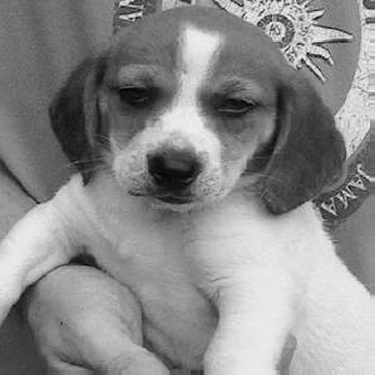dog: (1, 5, 370, 371)
